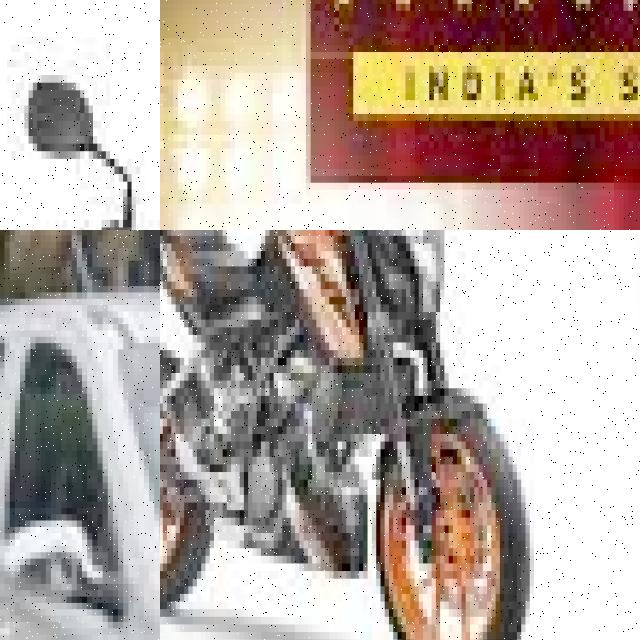bike: (160, 230, 529, 640), (0, 67, 160, 230)
car: (0, 248, 160, 640), (187, 155, 640, 230)
